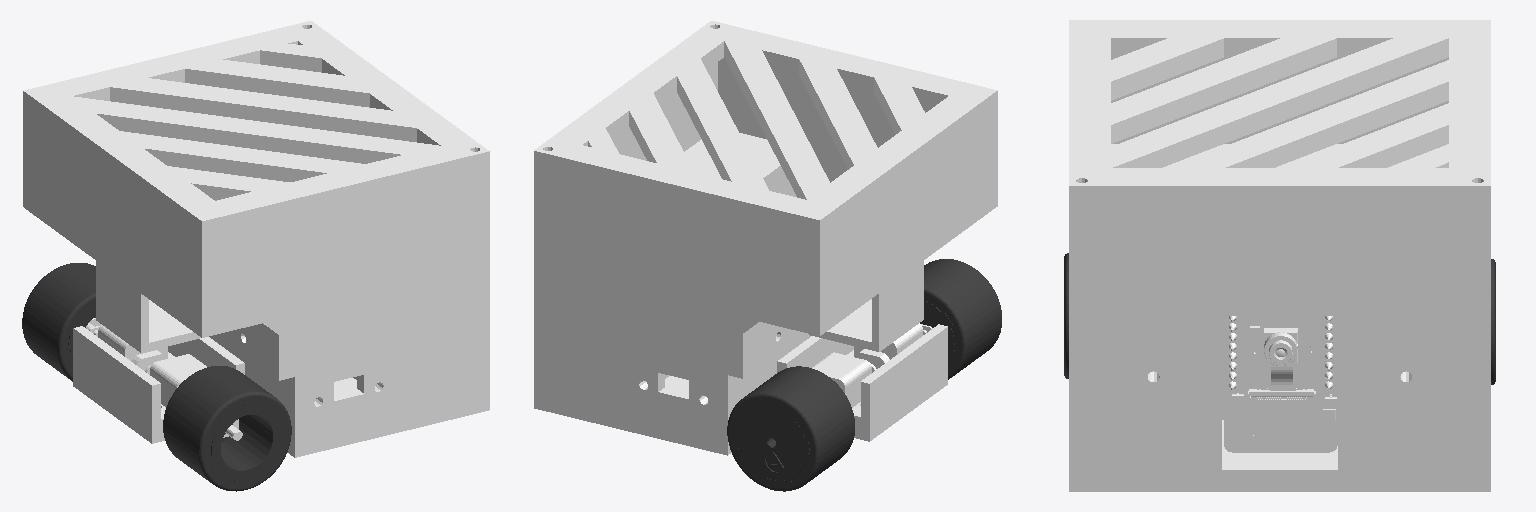
The robot description file, URDF, robot "URDF_Microproyecto_9":
<?xml version="1.0" encoding="utf-8"?>
<!-- URDF_Microproyecto_10 — adaptado para Gazebo Ignition Fortress -->
<!-- Cambios respecto al original:                                   -->
<!--   - Colisiones: STL → primitivas (box/cylinder) evita ODE crash -->
<!--   - Meshes: package://URDF_Microproyecto_10 → modelo_robot      -->
<!--   - axis joint_der: "0 0 -1" → "0 0 1" (igual que joint_izq)   -->
<!--   - Tags <gazebo>: materiales, friccion, plugins DiffDrive+JSP  -->
<!--   - Spawn z=0.08 recomendado en gazebo.launch.py                -->
<robot name="URDF_Microproyecto_9">

  <!-- ══ BASE LINK ══════════════════════════════════════════════ -->
  <link name="base_link">
    <inertial>
      <origin xyz="0.0030372 0.00024164 0.02336" rpy="0 0 0"/>
      <mass value="0.47644"/>
      <inertia
        ixx="0.00052706"
        ixy="3.3897E-08"
        ixz="-4.5933E-06"
        iyy="0.0002435"
        iyz="3.127E-08"
        izz="0.00062029"/>
    </inertial>
    <visual>
      <origin xyz="0 0 0" rpy="0 0 0"/>
      <geometry>
        <mesh filename="package://modelo_robot/meshes/base_link.STL"/>
      </geometry>
      <material name=""><color rgba="1 1 1 1"/></material>
    </visual>
    <!-- Colision: caja aproximada al chasis -->
    <collision>
      <origin xyz="0.003 0.0002 0.023" rpy="0 0 0"/>
      <geometry><box size="0.12 0.085 0.05"/></geometry>
    </collision>
  </link>

  <!-- ══ RUEDA IZQUIERDA ════════════════════════════════════════ -->
  <link name="Rueda_izq">
    <inertial>
      <origin xyz="7.07458613047954E-05 3.53647017556601E-05 -0.000631498941864889" rpy="0 0 0"/>
      <mass value="0.0157184722885494"/>
      <inertia
        ixx="1.6900538447052E-06"
        ixy="2.14652112438877E-10"
        ixz="2.40582412374417E-10"
        iyy="1.69132187199093E-06"
        iyz="1.46085961024242E-09"
        izz="2.1652262699732E-06"/>
    </inertial>
    <visual>
      <origin xyz="0 0 0" rpy="0 0 0"/>
      <geometry>
        <mesh filename="package://modelo_robot/meshes/Rueda_izq.STL"/>
      </geometry>
      <material name=""><color rgba="0.298 0.298 0.298 1"/></material>
    </visual>
    <!-- Colision: cilindro radio=0.015m ancho=0.012m -->
    <collision>
      <origin xyz="0 0 0" rpy="0 0 0"/>
      <geometry><cylinder radius="0.015" length="0.012"/></geometry>
    </collision>
  </link>

  <joint name="joint_izq" type="continuous">
    <origin xyz="-0.033127 0.040636 -0.0020475" rpy="1.5708 0 0"/>
    <parent link="base_link"/>
    <child link="Rueda_izq"/>
    <axis xyz="0 0 1"/>
  </joint>

  <!-- ══ RUEDA DERECHA ══════════════════════════════════════════ -->
  <link name="Rueda_der">
    <inertial>
      <origin xyz="7.90235797321938E-05 3.30346308194743E-06 0.000631498941864886" rpy="0 0 0"/>
      <mass value="0.0157184722885494"/>
      <inertia
        ixx="1.69053286024459E-06"
        ixy="-6.51171572346073E-10"
        ixz="-9.17714123617353E-10"
        iyy="1.69084285645155E-06"
        iyz="1.1618052699549E-09"
        izz="2.1652262699732E-06"/>
    </inertial>
    <visual>
      <origin xyz="0 0 0" rpy="0 0 0"/>
      <geometry>
        <mesh filename="package://modelo_robot/meshes/Rueda_der.STL"/>
      </geometry>
      <material name=""><color rgba="0.298 0.298 0.298 1"/></material>
    </visual>
    <!-- Colision: cilindro radio=0.015m ancho=0.012m -->
    <collision>
      <origin xyz="0 0 0" rpy="0 0 0"/>
      <geometry><cylinder radius="0.015" length="0.012"/></geometry>
    </collision>
  </link>

  <!-- axis="0 0 1" igual que joint_izq — DiffDrive requiere mismo eje -->
  <joint name="joint_der" type="continuous">
    <origin xyz="-0.034252 -0.040164 -0.0010202" rpy="-1.5708 0 0"/>
    <parent link="base_link"/>
    <child link="Rueda_der"/>
    <axis xyz="0 0 1"/>
  </joint>

  <!-- ══ CAM LINK ═══════════════════════════════════════════════ -->
  <link name="Cam_link">
    <inertial>
      <origin xyz="0 0 0" rpy="0 0 0"/>
      <!-- masa 0 original conservada — link puramente visual -->
      <mass value="0.001"/>
      <inertia ixx="1E-09" ixy="0" ixz="0" iyy="1E-09" iyz="0" izz="1E-09"/>
    </inertial>
    <visual>
      <origin xyz="0 0 0" rpy="0 0 0"/>
      <geometry>
        <mesh filename="package://modelo_robot/meshes/Cam_link.STL"/>
      </geometry>
      <material name=""><color rgba="1 1 1 1"/></material>
    </visual>
    <collision>
      <origin xyz="-0.008 -0.007 0" rpy="0 0 0"/>
      <geometry><box size="0.025 0.025 0.015"/></geometry>
    </collision>
  </link>

  <joint name="joint_cam" type="fixed">
    <origin xyz="0.04341 0.00043637 0.0255" rpy="1.5708 0 0"/>
    <parent link="base_link"/>
    <child link="Cam_link"/>
    <axis xyz="0 0 0"/>
  </joint>

  <!-- ══ GAZEBO: materiales ══════════════════════════════════════ -->
  <gazebo reference="base_link">
    <material>Gazebo/White</material>
  </gazebo>
  <gazebo reference="Rueda_izq">
    <material>Gazebo/DarkGrey</material>
  </gazebo>
  <gazebo reference="Rueda_der">
    <material>Gazebo/DarkGrey</material>
  </gazebo>
  <gazebo reference="Cam_link">
    <material>Gazebo/Blue</material>
  </gazebo>

  <!-- ══ GAZEBO: friccion ruedas ════════════════════════════════ -->
  <gazebo reference="Rueda_izq">
    <mu1>2.0</mu1>
    <mu2>2.0</mu2>
    <kp>1000000.0</kp>
    <kd>1.0</kd>
    <minDepth>0.001</minDepth>
    <maxVel>0.1</maxVel>
    <fdir1>1 0 0</fdir1>
  </gazebo>
  <gazebo reference="Rueda_der">
    <mu1>2.0</mu1>
    <mu2>2.0</mu2>
    <kp>1000000.0</kp>
    <kd>1.0</kd>
    <minDepth>0.001</minDepth>
    <maxVel>0.1</maxVel>
    <fdir1>1 0 0</fdir1>
  </gazebo>

  <!-- ══ PLUGIN: DiffDrive ══════════════════════════════════════ -->
  <gazebo>
    <plugin
      filename="libignition-gazebo-diff-drive-system.so"
      name="ignition::gazebo::systems::DiffDrive">
      <left_joint>joint_izq</left_joint>
      <right_joint>joint_der</right_joint>
      <wheel_separation>0.0808</wheel_separation>
      <wheel_radius>0.015</wheel_radius>
      <odom_publish_frequency>30</odom_publish_frequency>
      <topic>cmd_vel</topic>
      <odom_topic>odom</odom_topic>
      <robot_base_frame>base_link</robot_base_frame>
      <min_velocity>-10.0</min_velocity>
      <max_velocity>10.0</max_velocity>
      <min_acceleration>-5.0</min_acceleration>
      <max_acceleration>5.0</max_acceleration>
    </plugin>
  </gazebo>

  <!-- ══ PLUGIN: JointStatePublisher ═══════════════════════════ -->
  <gazebo>
    <plugin
      filename="libignition-gazebo-joint-state-publisher-system.so"
      name="ignition::gazebo::systems::JointStatePublisher">
      <topic>joint_states</topic>
    </plugin>
  </gazebo>

</robot>

--- What the picture shows (computed from the rendered views, not written in the file) ---
Views: 3 orthographic renders of the robot side by side, from view 1: azimuth 30°, elevation 25°; view 2: azimuth 150°, elevation 25°; view 3: azimuth 270°, elevation 25°.
Robot: URDF_Microproyecto_9 — 4 links, 3 joints (2 continuous, 1 fixed); root link base_link; default pose: every joint at zero.
Links seen in each view (by area): view 1: base_link, Rueda_der, Rueda_izq; view 2: base_link, Rueda_izq, Rueda_der; view 3: base_link, Cam_link, Rueda_izq, Rueda_der.
Boxes of the visible links, x1,y1,x2,y2 form: base_link: (23,21,489,457); Rueda_der: (163,366,291,491); Rueda_izq: (22,263,95,381); base_link: (534,21,997,455); Rueda_izq: (727,366,854,491); Rueda_der: (920,259,1001,379); base_link: (1069,20,1490,491); Cam_link: (1224,316,1337,452); Rueda_izq: (1491,259,1495,384); Rueda_der: (1064,253,1068,378).
Bounding box of the posed robot: 0.0942 × 0.1024 × 0.087 m (x, y, z).
4 mesh visuals loaded from 4 distinct referenced files (4 binary STL).
